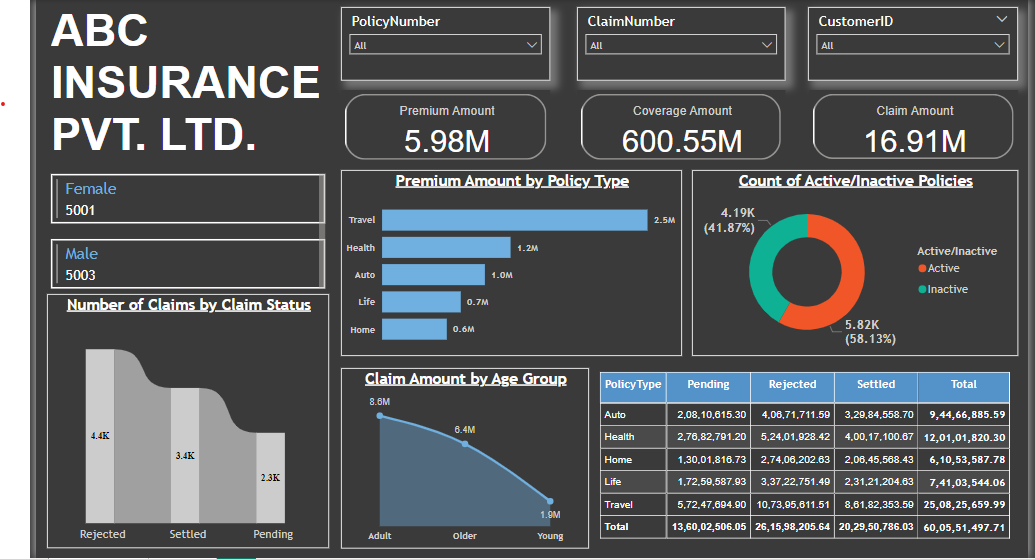

The page's visual inventory and layout, read from the dashboard file:
{"tool":"powerbi","page":{"name":"Dashboard","canvas":[1280,720],"ordinal":0},"visuals":[{"type":"slicer","fields":{"Values":["InsuranceData.PolicyNumber"]},"box":[393.1,9.7,270.3,95.2],"z":0},{"type":"slicer","fields":{"Values":["InsuranceData.ClaimNumber"]},"box":[697.9,9.7,269,95.2],"z":1000},{"type":"slicer","fields":{"Values":["InsuranceData.CustomerID"]},"box":[996.5,9.6,271.1,95],"z":2000},{"type":"textbox","box":[14.4,0,364.3,257.8],"z":3000},{"type":"cardVisual","fields":{"Data":["Sum(InsuranceData.PremiumAmount)"]},"box":[393.1,115.9,270.3,95.2],"z":4000},{"type":"cardVisual","fields":{"Data":["Sum(InsuranceData.CoverageAmount)"]},"box":[697.9,115.9,269,95.2],"z":5000},{"type":"cardVisual","fields":{"Data":["Sum(InsuranceData.ClaimAmount)"]},"box":[997.8,115.6,269.8,95],"z":6000},{"type":"multiRowCard","fields":{"Values":["InsuranceData.Gender","CountNonNull(InsuranceData.Gender)"]},"box":[14.2,219.4,363.9,169],"z":7000},{"type":"ribbonChart","title":"Number of Claims by Claim Status","fields":{"Y":["CountNonNull(InsuranceData.ClaimStatus)"],"Category":["InsuranceData.ClaimStatus"]},"box":[14.2,379.4,363.9,327.7],"z":8000},{"type":"barChart","title":"Premium Amount by Policy Type","fields":{"Y":["Sum(InsuranceData.PremiumAmount)"],"Category":["InsuranceData.PolicyType"]},"box":[393.1,219.3,440,240],"z":9000},{"type":"donutChart","title":"Count of Active/Inactive Policies","fields":{"Category":["InsuranceData.Active/Inactive"],"Y":["CountNonNull(InsuranceData.Active/Inactive)"]},"box":[846.5,219.4,420.6,240],"z":10000},{"type":"lineChart","title":"Claim Amount by Age Group","fields":{"Category":["InsuranceData.Age Group"],"Y":["Sum(InsuranceData.ClaimAmount)"]},"box":[393.1,474.5,320,233.1],"z":11000},{"type":"pivotTable","fields":{"Rows":["InsuranceData.PolicyType"],"Columns":["InsuranceData.ClaimStatus"],"Values":["Sum(InsuranceData.CoverageAmount)"]},"box":[722.8,474.5,544.8,233.1],"z":12000}]}

Visuals, with their boxes on the page's 1280x720 design canvas (x1, y1, x2, y2). These are canvas units, not pixel positions in the 1035x559 screenshot, which may show the page scaled, cropped or inside an application window:
slicer - InsuranceData.PolicyNumber: bbox(393, 10, 663, 105)
slicer - InsuranceData.ClaimNumber: bbox(698, 10, 967, 105)
slicer - InsuranceData.CustomerID: bbox(996, 10, 1268, 105)
textbox: bbox(14, 0, 379, 258)
cardVisual - Sum(InsuranceData.PremiumAmount): bbox(393, 116, 663, 211)
cardVisual - Sum(InsuranceData.CoverageAmount): bbox(698, 116, 967, 211)
cardVisual - Sum(InsuranceData.ClaimAmount): bbox(998, 116, 1268, 211)
multiRowCard - InsuranceData.Gender x CountNonNull(InsuranceData.Gender): bbox(14, 219, 378, 388)
"Number of Claims by Claim Status" ribbonChart: bbox(14, 379, 378, 707)
"Premium Amount by Policy Type" barChart: bbox(393, 219, 833, 459)
"Count of Active/Inactive Policies" donutChart: bbox(846, 219, 1267, 459)
"Claim Amount by Age Group" lineChart: bbox(393, 474, 713, 708)
pivotTable - InsuranceData.PolicyType x InsuranceData.ClaimStatus: bbox(723, 474, 1268, 708)
